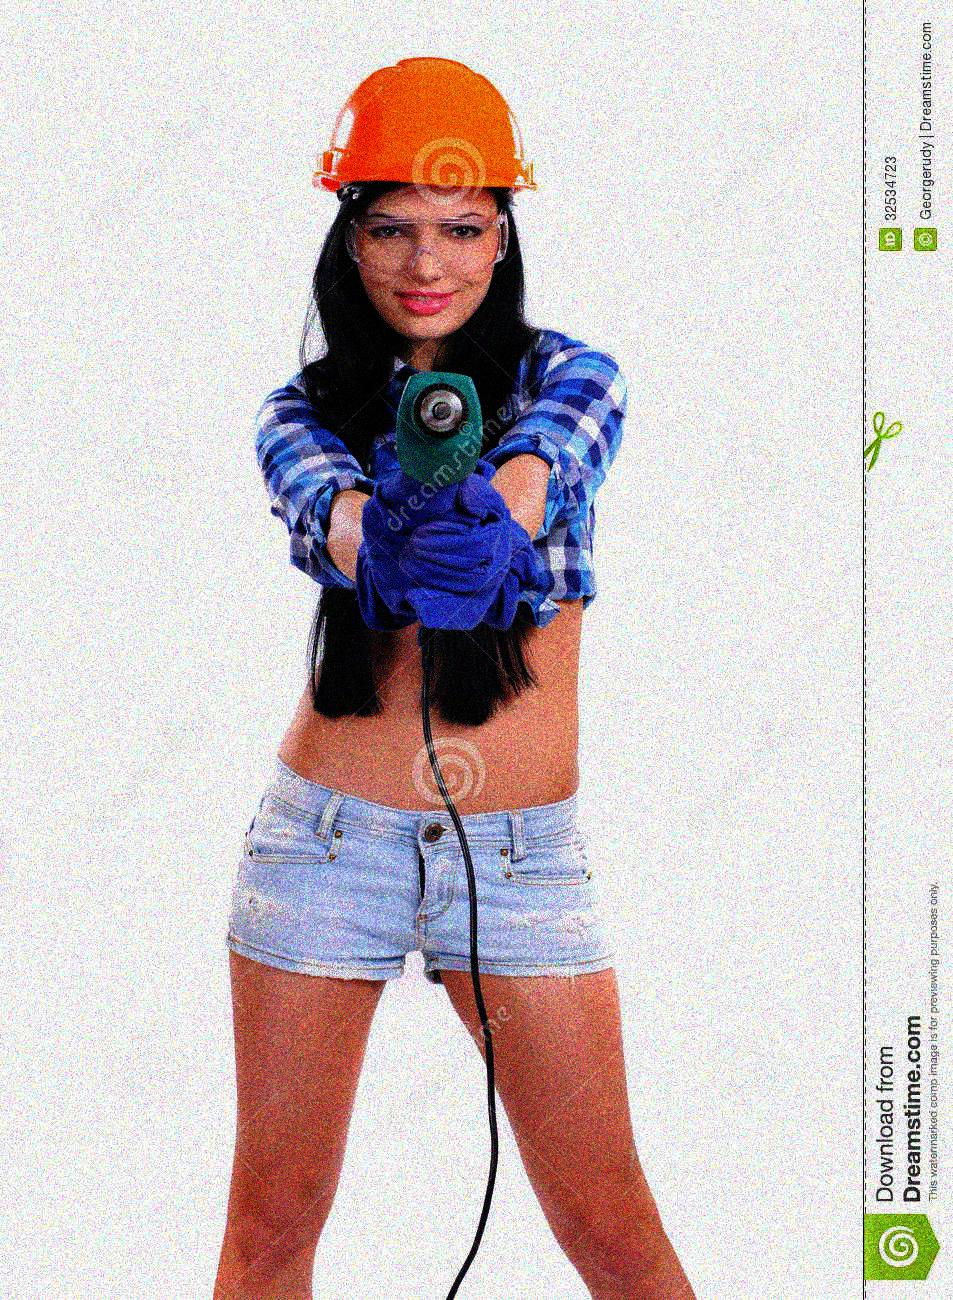helmet: (310, 47, 540, 343)
